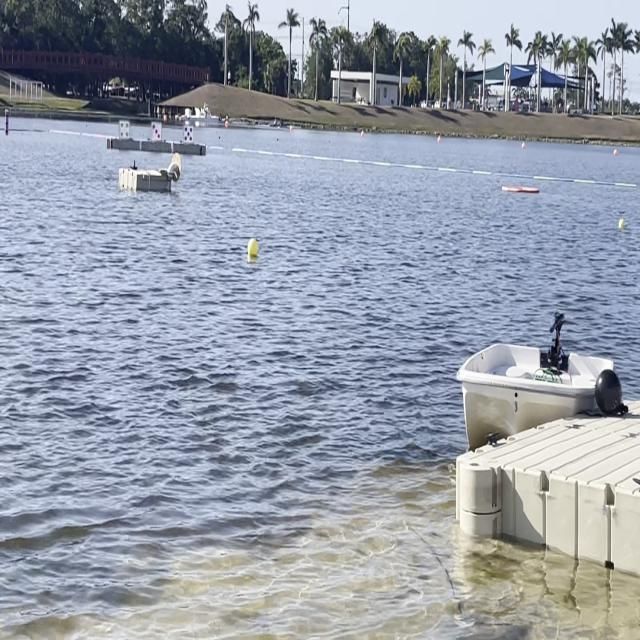buoy: (248, 238, 258, 258), (617, 216, 625, 231)
